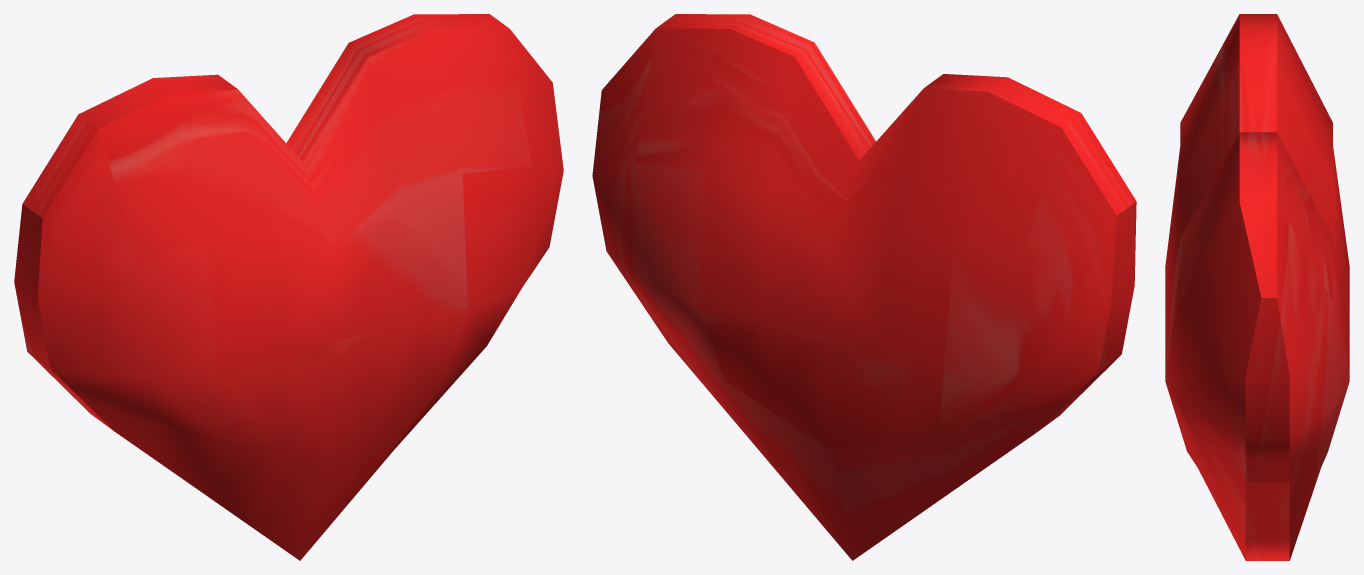
Rendered from heart.fbx.
3 renders of one model, left to right at view 1: azimuth 30°, elevation 25°; view 2: azimuth 150°, elevation 25°; view 3: azimuth 270°, elevation 25°, orthographic. The views are drawn at different scales.
Visible parts, largest first — view 1: heart; view 2: heart; view 3: heart.
Part boxes in pixels (bbox=[...]): heart: bbox=[14, 14, 563, 560]; heart: bbox=[592, 14, 1136, 560]; heart: bbox=[1165, 14, 1349, 560].
Bounding box in the file's own units: 0.7903 × 0.7213 × 0.2565.
Materials: 1 (1 with a texture image).
